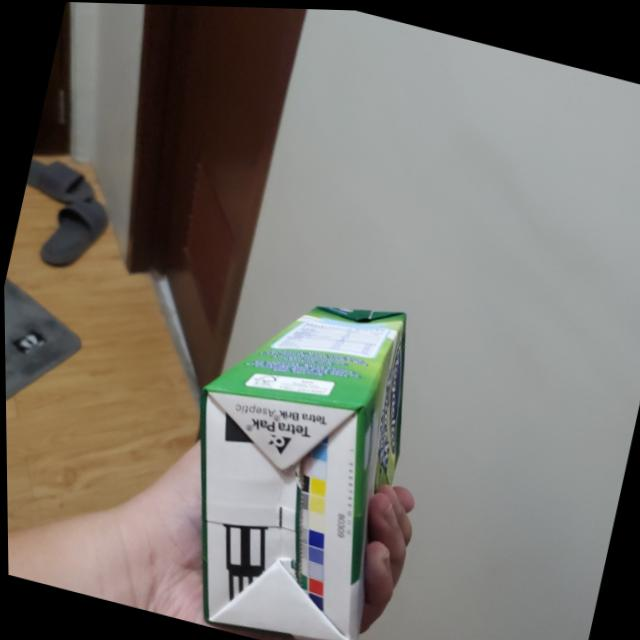milk: (146, 261, 430, 640)
